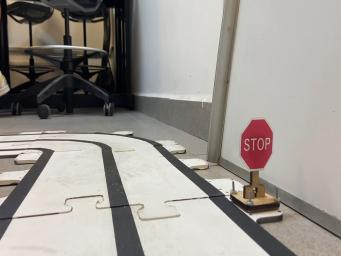stop: (230, 118, 280, 213), (230, 118, 280, 213), (230, 118, 280, 213), (230, 118, 280, 213), (230, 118, 280, 213), (230, 118, 280, 213)
street: (0, 132, 294, 255), (0, 132, 294, 255), (0, 132, 294, 255), (0, 132, 294, 255), (0, 132, 294, 255), (0, 132, 294, 255)
